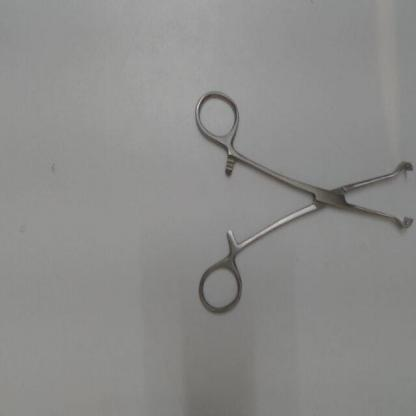Babcock Tissue Forceps: (189, 84, 414, 322)
